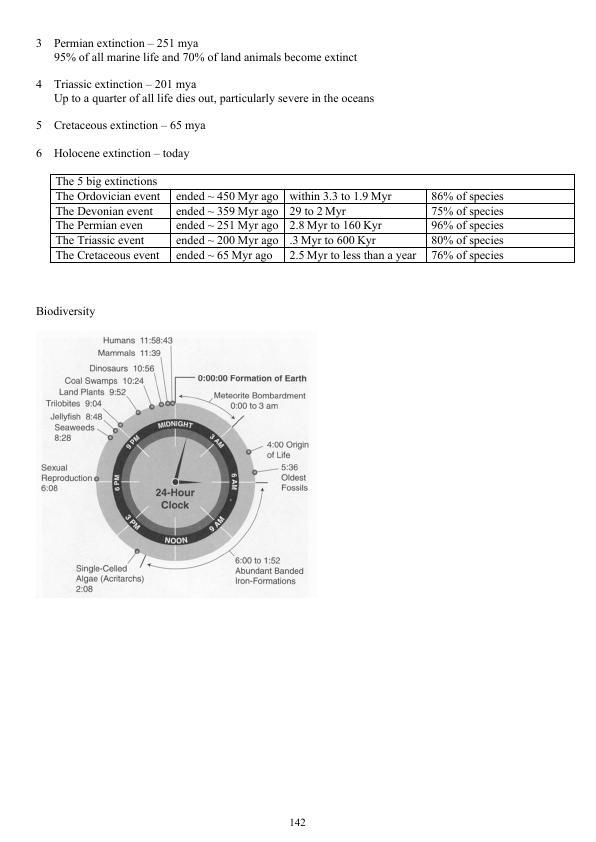table: (44, 168, 579, 268)
text: (31, 74, 379, 108), (31, 32, 366, 67), (32, 118, 215, 133), (30, 145, 194, 161)
